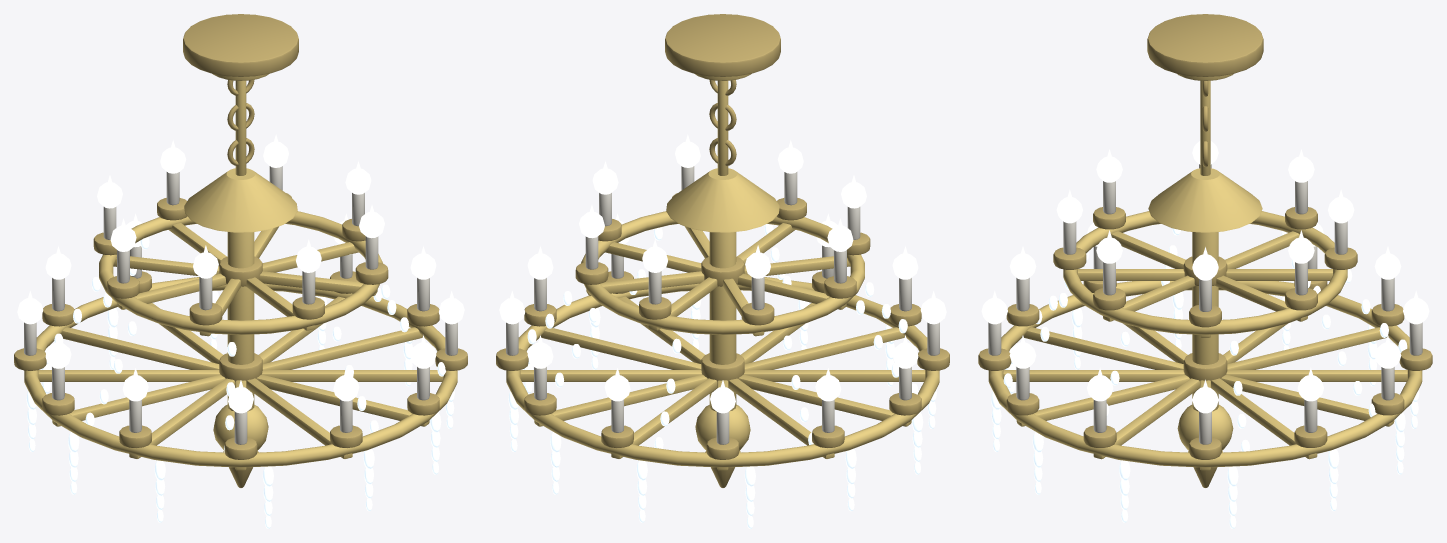
The model's file is th14_kronleuchter.glb.
3 views of the same model, side by side, from view 1: azimuth 30°, elevation 25°; view 2: azimuth 150°, elevation 25°; view 3: azimuth 270°, elevation 25° (orthographic).
Visible parts, largest first — view 1: Torus.004, Cylinder, Torus.003, Cone, Cylinder.003, Cube.012, Cube.008, Cube.013, Cube.014, Cube.019, Cube.018, Cube.017 (+44 smaller); view 2: Torus.004, Cylinder, Torus.003, Cone, Cylinder.003, Cube.008, Cube.016, Cube.014, Cube.009, Cube.015, Cube.010, Cube.013 (+42 smaller); view 3: Torus.004, Cylinder, Torus.003, Cone, Cube.012, Cube.016, Cylinder.003, Cube.011, Cube.018, Cube.010, Cube.017, Cube.019 (+44 smaller).
Part boxes in pixels (<box>): Torus.004: <box>24,277,457,467</box>; Cylinder: <box>183,14,298,76</box>; Torus.003: <box>99,211,382,334</box>; Cone: <box>184,168,297,232</box>; Cylinder.003: <box>227,232,254,411</box>; Cube.012: <box>61,327,219,369</box>; Cube.008: <box>262,327,422,369</box>; Cube.013: <box>38,370,219,381</box>; Cube.014: <box>52,374,225,426</box>; Cube.019: <box>262,370,443,381</box>; Cube.018: <box>256,374,429,426</box>; Cube.017: <box>246,378,352,458</box>; Torus.004: <box>506,277,939,467</box>; Cylinder: <box>665,14,780,76</box>; Torus.003: <box>581,211,864,334</box>; Cone: <box>666,168,779,232</box>; Cylinder.003: <box>709,232,736,411</box>; Cube.008: <box>541,328,701,369</box>; Cube.016: <box>744,327,904,369</box>; Cube.014: <box>738,374,911,426</box>; Cube.009: <box>520,370,701,381</box>; Cube.015: <box>744,370,925,381</box>; Cube.010: <box>534,374,707,426</box>; Cube.013: <box>728,378,834,458</box>; Torus.004: <box>988,281,1422,467</box>; Cylinder: <box>1147,14,1263,76</box>; Torus.003: <box>1063,211,1347,334</box>; Cone: <box>1148,168,1262,232</box>; Cube.012: <box>1227,327,1386,369</box>; Cube.016: <box>1023,327,1183,369</box>; Cylinder.003: <box>1192,232,1218,411</box>; Cube.011: <box>1226,370,1407,381</box>; Cube.018: <box>1016,374,1189,426</box>; Cube.010: <box>1221,374,1394,426</box>; Cube.017: <box>1003,370,1184,381</box>; Cube.019: <box>1093,378,1199,459</box>.
Size of the model in its own units: 1.87 by 2.05 by 1.88.
